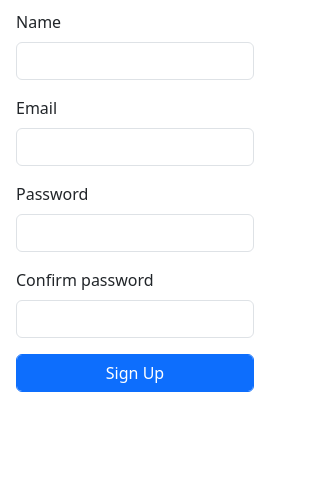
Test: SignupPageComponent › when user interact with password field › should display error message when field do not contain at least 1 uppercase character
This screenshot has width=320, height=497.
Type "abc1$def" into the password field with test id "password" at (135, 233), box 16,214 -> 254,252
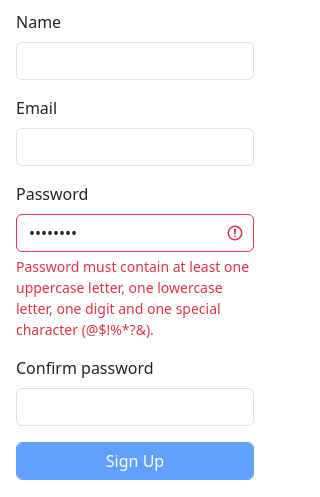
Expected: the text with test id "error-password-pattern" shows "Password must contain at least one uppercase letter, one lowercase letter, one digit and one special character (@$!%*?&).", 16,257 -> 249,339
